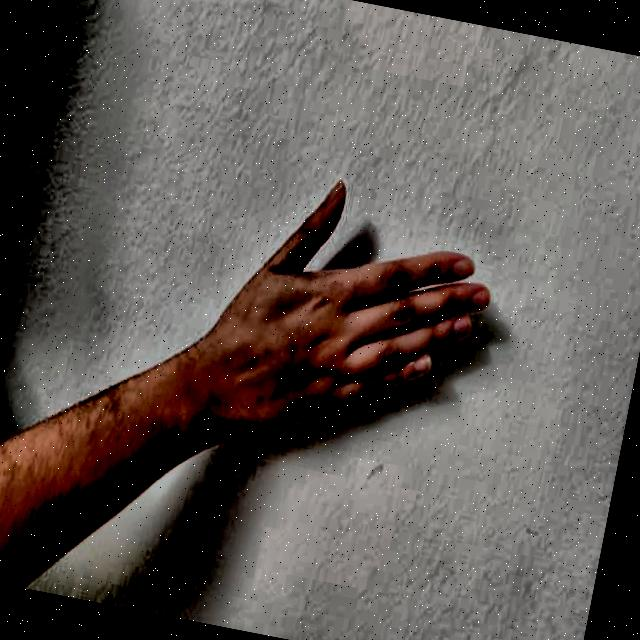Aa: (170, 137, 522, 521)
